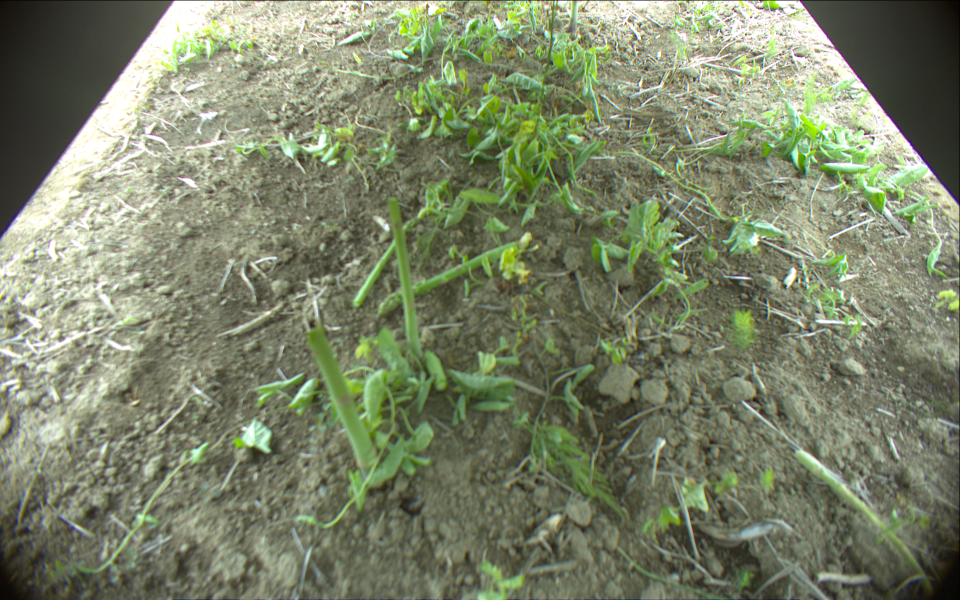aspa: (794, 448, 933, 600), (380, 242, 517, 318), (308, 327, 379, 468), (352, 216, 415, 307), (387, 197, 421, 357), (423, 351, 446, 392), (568, 1, 577, 32), (425, 2, 429, 33)
